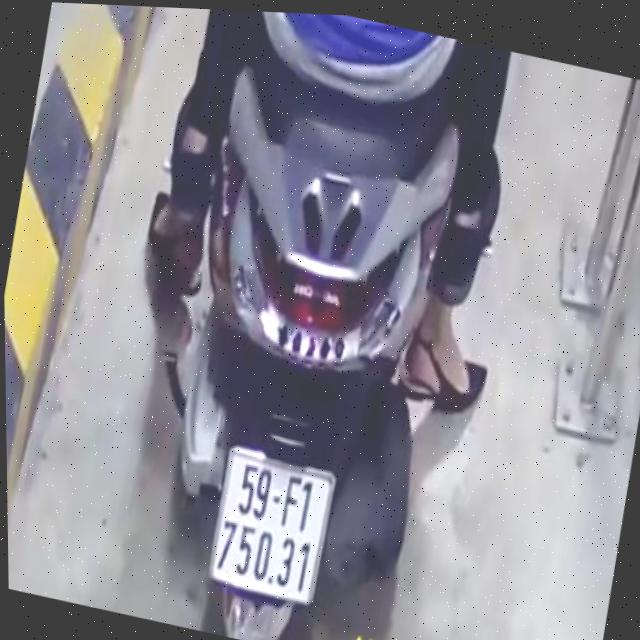motorcycle: (84, 4, 505, 640)
plate: (201, 442, 341, 614)
